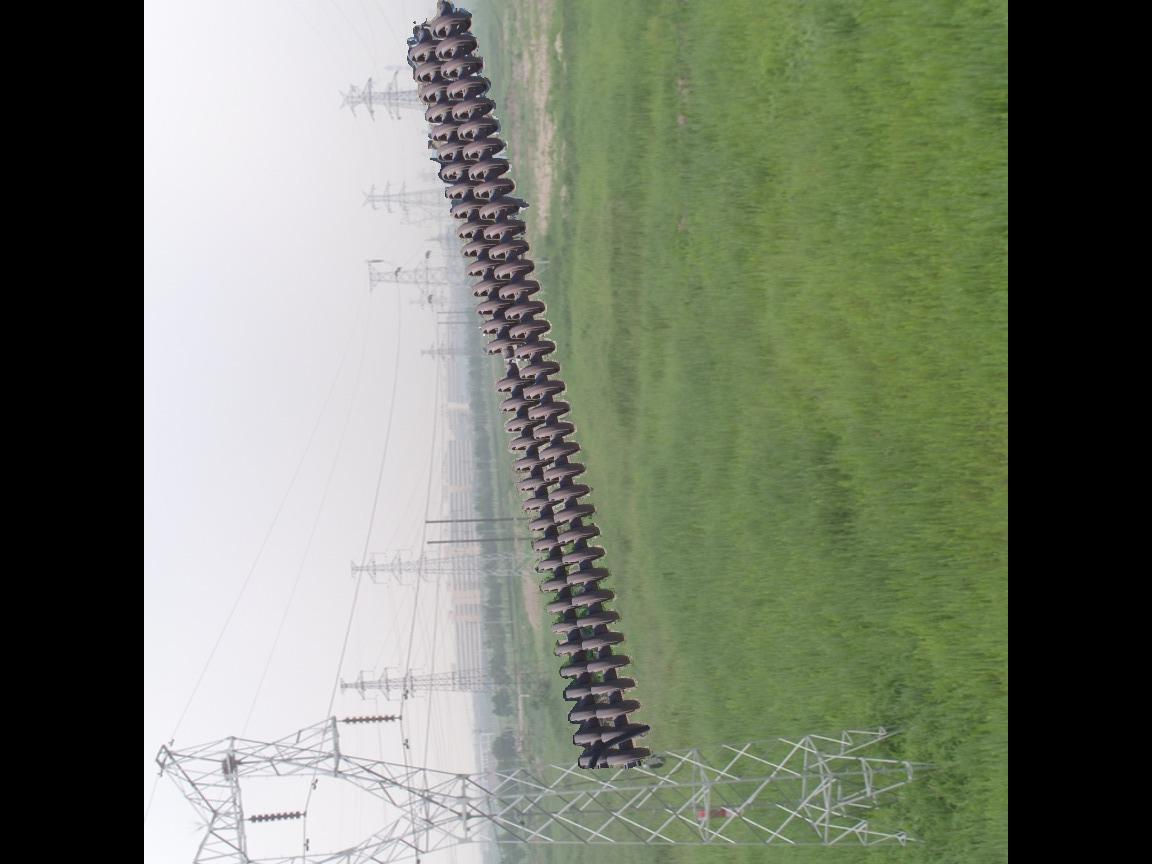insulator: (397, 4, 660, 780), (244, 806, 303, 829), (338, 712, 399, 728)
insulator_stringdrop: (481, 334, 531, 397)
